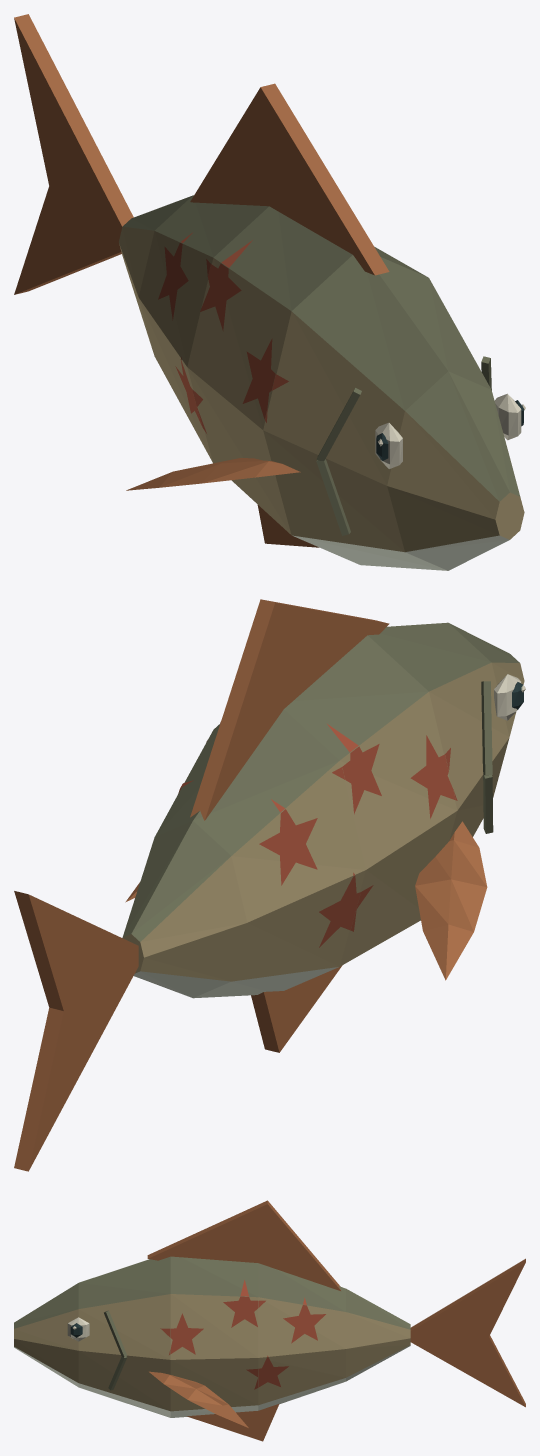
Rendered from fish_maplebass.glb.
3 renders of one model, top to bottom at view 1: azimuth 30°, elevation 25°; view 2: azimuth 150°, elevation 25°; view 3: azimuth 270°, elevation 25°, orthographic. The views are drawn at different scales.
Parts seen in each view (by area): view 1: fish; view 2: fish; view 3: fish.
Boxes of the visible parts, x1,y1,x2,y2 form: fish: [14, 14, 525, 570]; fish: [14, 599, 525, 1171]; fish: [14, 1200, 525, 1441].
Size of the model in its own units: 0.3069 by 0.4147 by 0.8103.
